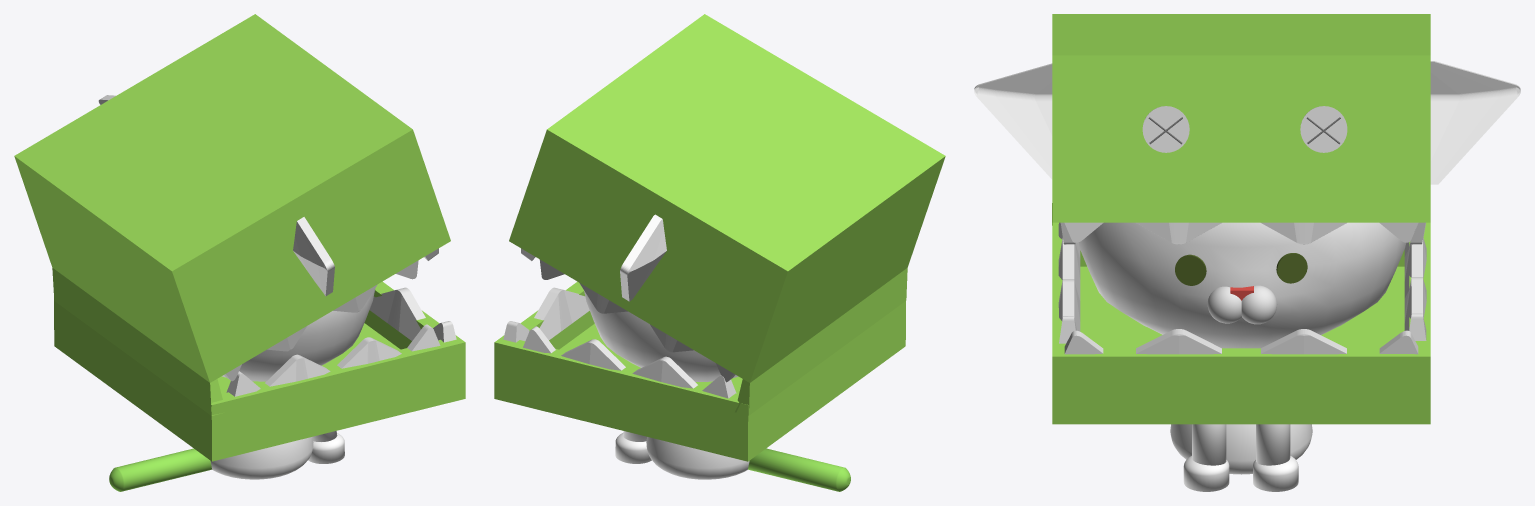
File: cat-box.glb
3 views of the same model, side by side, from view 1: azimuth 30°, elevation 25°; view 2: azimuth 150°, elevation 25°; view 3: azimuth 270°, elevation 25° (orthographic). The views are drawn at different scales.
Visible parts, largest first — view 1: 立方体, 球体, 立方体.004, 柱体, 柱体.001, 立方体.003, 立方体.009, 立方体.007, 柱体.005; view 2: 立方体, 球体, 立方体.005, 柱体, 柱体.001, 立方体.009, 立方体.003, 立方体.008, 柱体.005; view 3: 立方体, 球体, 立方体.009, 立方体.003, 立方体.002, 柱体.006, 柱体, 柱体.005, 立方体.005, 立方体.004, 柱体.003, 柱体.004 (+3 smaller).
Part boxes in pixels (x1,y1,x2,y2): 立方体: (14, 14, 465, 461); 球体: (222, 289, 375, 381); 立方体.004: (226, 324, 440, 396); 柱体: (210, 436, 313, 479); 柱体.001: (109, 448, 212, 491); 立方体.003: (369, 287, 456, 342); 立方体.009: (98, 95, 334, 296); 立方体.007: (224, 260, 418, 381); 柱体.005: (308, 433, 344, 463); 立方体: (494, 14, 945, 461); 球体: (584, 291, 738, 381); 立方体.005: (523, 326, 736, 398); 柱体: (646, 437, 749, 479); 柱体.001: (748, 448, 850, 491); 立方体.009: (620, 214, 666, 301); 立方体.003: (503, 287, 589, 342); 立方体.008: (539, 259, 735, 382); 柱体.005: (615, 433, 651, 463); 立方体: (1052, 14, 1430, 424); 球体: (1078, 222, 1406, 348); 立方体.009: (974, 61, 1520, 184); 立方体.003: (1064, 329, 1418, 354); 立方体.002: (1064, 222, 1418, 244); 柱体.006: (1192, 424, 1290, 465); 柱体: (1170, 424, 1312, 474); 柱体.005: (1183, 456, 1298, 491); 立方体.005: (1404, 223, 1426, 340); 立方体.004: (1058, 222, 1080, 343); 柱体.003: (1300, 106, 1347, 152); 柱体.004: (1142, 106, 1189, 152).
Size of the model in its own units: 3.4 by 4.09 by 4.57.
